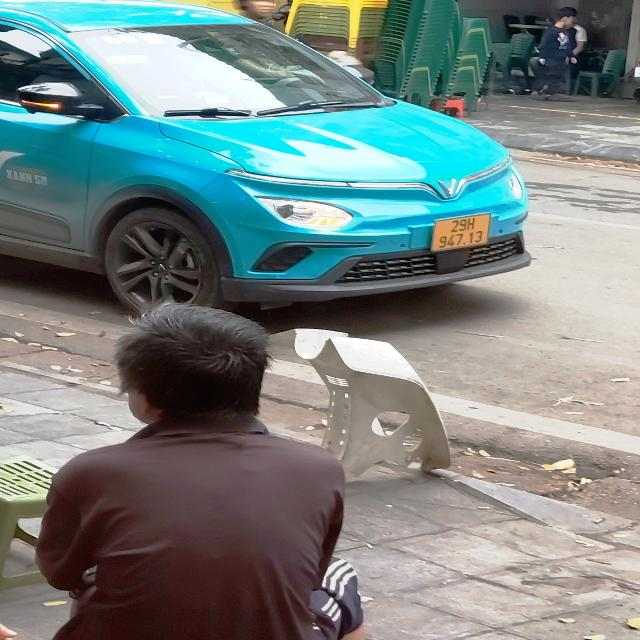license_plate: (434, 212, 494, 252)
